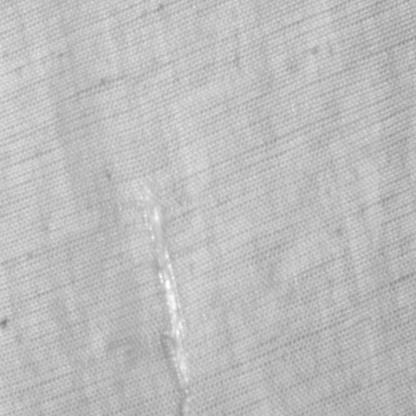thread error: (133, 177, 194, 415)
